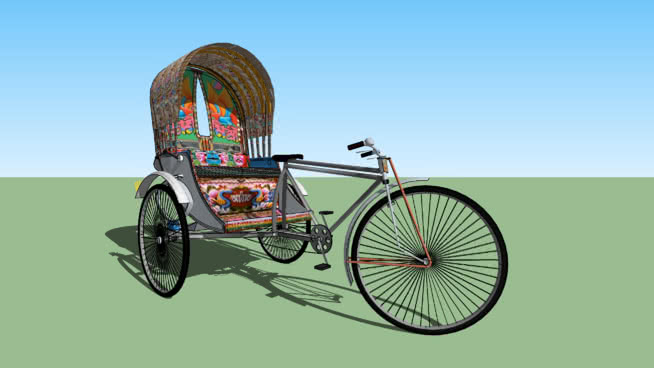Rickshaw: (127, 45, 515, 326)
